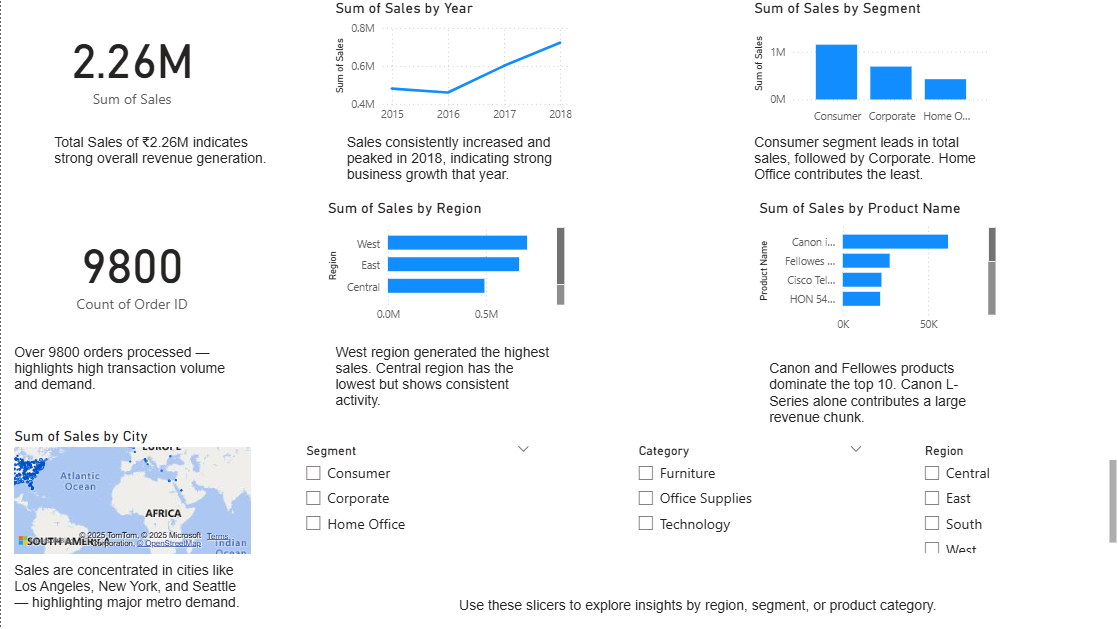

Layout of this report page (visuals, bound fields, positions):
{"tool":"powerbi","page":{"name":"Page 1","canvas":[1280,720],"ordinal":0},"visuals":[{"type":"card","fields":{"Values":["Sum(train.Sales)"]},"box":[10,0,280,150],"z":0},{"type":"card","fields":{"Values":["CountNonNull(train.Order ID)"]},"box":[10,228.6,280,161.4],"z":1000},{"type":"lineChart","fields":{"Y":["Sum(train.Sales)"],"Category":["train.Order Date.Variation.Date Hierarchy.Year","train.Order Date.Variation.Date Hierarchy.Month"]},"box":[377.1,0,280,150],"z":2000},{"type":"clusteredBarChart","fields":{"Category":["train.Region"],"Y":["Sum(train.Sales)"]},"box":[368.6,228.6,280,150],"z":3000},{"type":"clusteredColumnChart","fields":{"Category":["train.Segment"],"Y":["Sum(train.Sales)"]},"box":[855.7,0,280,150],"z":4000},{"type":"clusteredBarChart","fields":{"Category":["train.Product Name"],"Y":["Sum(train.Sales)"]},"box":[861.4,228.6,280,161.4],"z":5000},{"type":"map","fields":{"Category":["train.City"],"Size":["Sum(train.Sales)"]},"box":[10,488.6,280,150],"z":6000},{"type":"slicer","fields":{"Values":["train.Segment"]},"box":[335.7,502.9,280,135.7],"z":7000},{"type":"slicer","fields":{"Values":["train.Category"]},"box":[715.7,502.9,280,135.7],"z":8000},{"type":"slicer","fields":{"Values":["train.Region"]},"box":[1042.9,502.9,237.1,135.7],"z":9000},{"type":"textbox","box":[390,150,280,78.6],"z":10000},{"type":"textbox","box":[377.1,390,262.9,98.6],"z":10001},{"type":"textbox","box":[855.7,150,280,78.6],"z":10002},{"type":"textbox","box":[872.9,408.6,268.6,94.3],"z":10003},{"type":"textbox","box":[10,638.6,280,81.4],"z":10004},{"type":"textbox","box":[55.7,150,280,55.7],"z":10005},{"type":"textbox","box":[10,390,280,75.7],"z":10006},{"type":"textbox","box":[335.7,678.6,921.4,41.4],"z":10007}]}

Visuals, with their boxes in screenshot pixels (x1, y1, x2, y2), scaled from the page's 1280x720 canvas onto the 1118x629 screenshot:
card - Sum(train.Sales): {"x1": 9, "y1": 0, "x2": 253, "y2": 131}
card - CountNonNull(train.Order ID): {"x1": 9, "y1": 200, "x2": 253, "y2": 341}
lineChart - Sum(train.Sales) x train.Order Date.Variation.Date Hierarchy.Year: {"x1": 329, "y1": 0, "x2": 574, "y2": 131}
clusteredBarChart - train.Region x Sum(train.Sales): {"x1": 322, "y1": 200, "x2": 567, "y2": 331}
clusteredColumnChart - train.Segment x Sum(train.Sales): {"x1": 747, "y1": 0, "x2": 992, "y2": 131}
clusteredBarChart - train.Product Name x Sum(train.Sales): {"x1": 752, "y1": 200, "x2": 997, "y2": 341}
map - train.City x Sum(train.Sales): {"x1": 9, "y1": 427, "x2": 253, "y2": 558}
slicer - train.Segment: {"x1": 293, "y1": 439, "x2": 538, "y2": 558}
slicer - train.Category: {"x1": 625, "y1": 439, "x2": 870, "y2": 558}
slicer - train.Region: {"x1": 911, "y1": 439, "x2": 1117, "y2": 558}
textbox: {"x1": 341, "y1": 131, "x2": 585, "y2": 200}
textbox: {"x1": 329, "y1": 341, "x2": 559, "y2": 427}
textbox: {"x1": 747, "y1": 131, "x2": 992, "y2": 200}
textbox: {"x1": 762, "y1": 357, "x2": 997, "y2": 439}
textbox: {"x1": 9, "y1": 558, "x2": 253, "y2": 628}
textbox: {"x1": 49, "y1": 131, "x2": 293, "y2": 180}
textbox: {"x1": 9, "y1": 341, "x2": 253, "y2": 407}
textbox: {"x1": 293, "y1": 593, "x2": 1098, "y2": 628}
